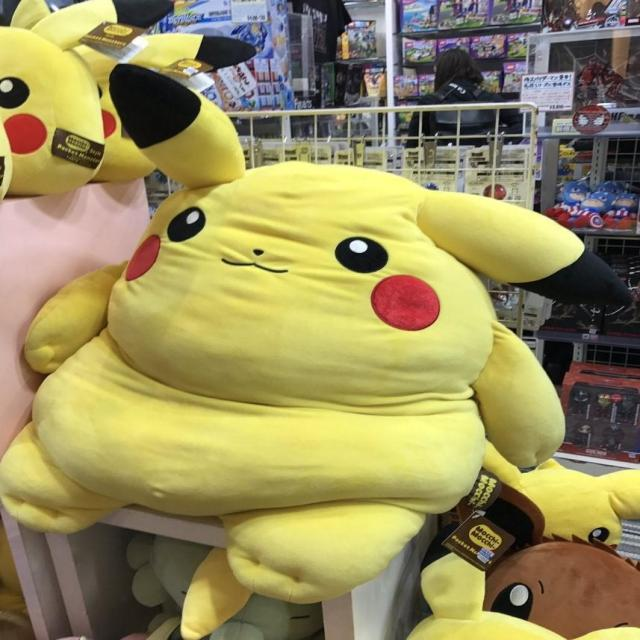pikachu: (0, 69, 630, 639)
